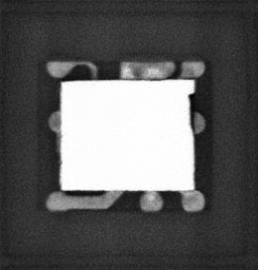DIE_BROKEN: (186, 89, 197, 135)
